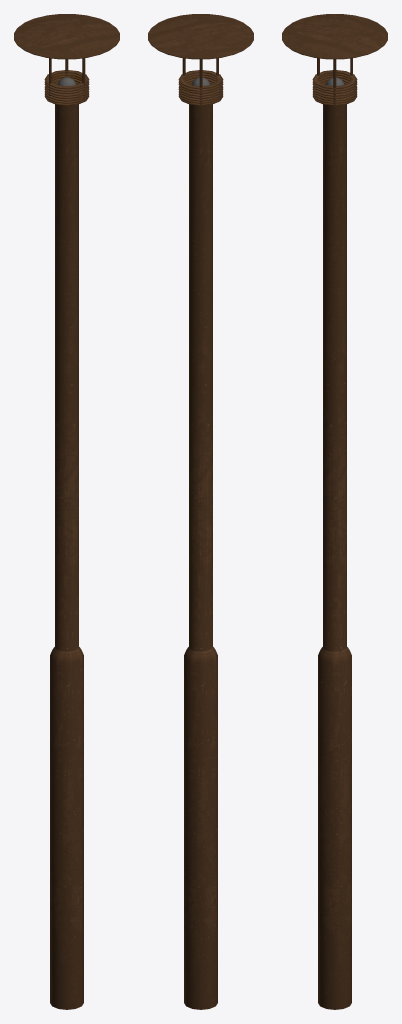
The model's file is SM_Lamp_01.fbx.
3 views of the same model, side by side, from view 1: azimuth 30°, elevation 25°; view 2: azimuth 210°, elevation 25°; view 3: azimuth 330°, elevation 25° (orthographic).
Parts seen in each view (by area): view 1: SM_Lamp_01_LOD0; view 2: SM_Lamp_01_LOD0; view 3: SM_Lamp_01_LOD0.
Boxes of the visible parts, <box> form: SM_Lamp_01_LOD0: <box>14,14,119,1009</box>; SM_Lamp_01_LOD0: <box>148,14,253,1009</box>; SM_Lamp_01_LOD0: <box>282,14,387,1009</box>.
Size of the model in its own units: 43.25 by 43.25 by 437.
